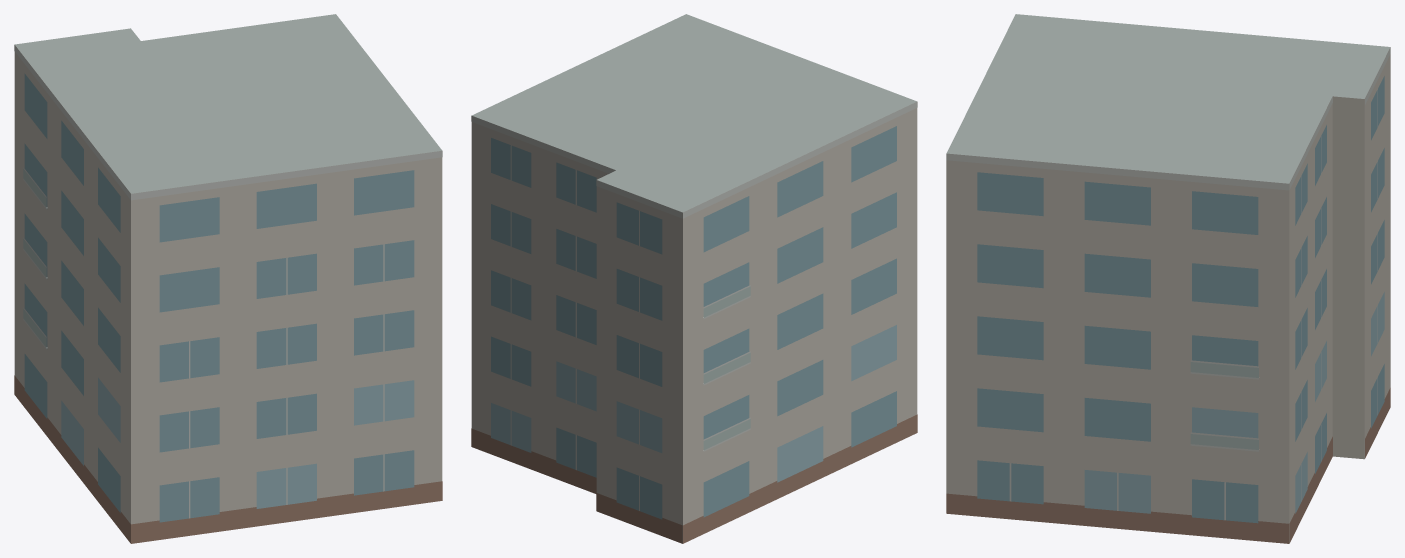
The model's file is survey-upis-32920278.glb.
3 renders of one model, left to right at view 1: azimuth 30°, elevation 25°; view 2: azimuth 150°, elevation 25°; view 3: azimuth 270°, elevation 25°, orthographic. The views are drawn at different scales.
Parts seen in each view (by area): view 1: survey-upis-32920278.tmp; view 2: survey-upis-32920278.tmp; view 3: survey-upis-32920278.tmp.
Boxes of the visible parts, x1,y1,x2,y2 form: survey-upis-32920278.tmp: (14,14,442,543); survey-upis-32920278.tmp: (471,14,917,543); survey-upis-32920278.tmp: (946,14,1390,543).
Bounding box in the file's own units: 13.15 × 13 × 14.54.
